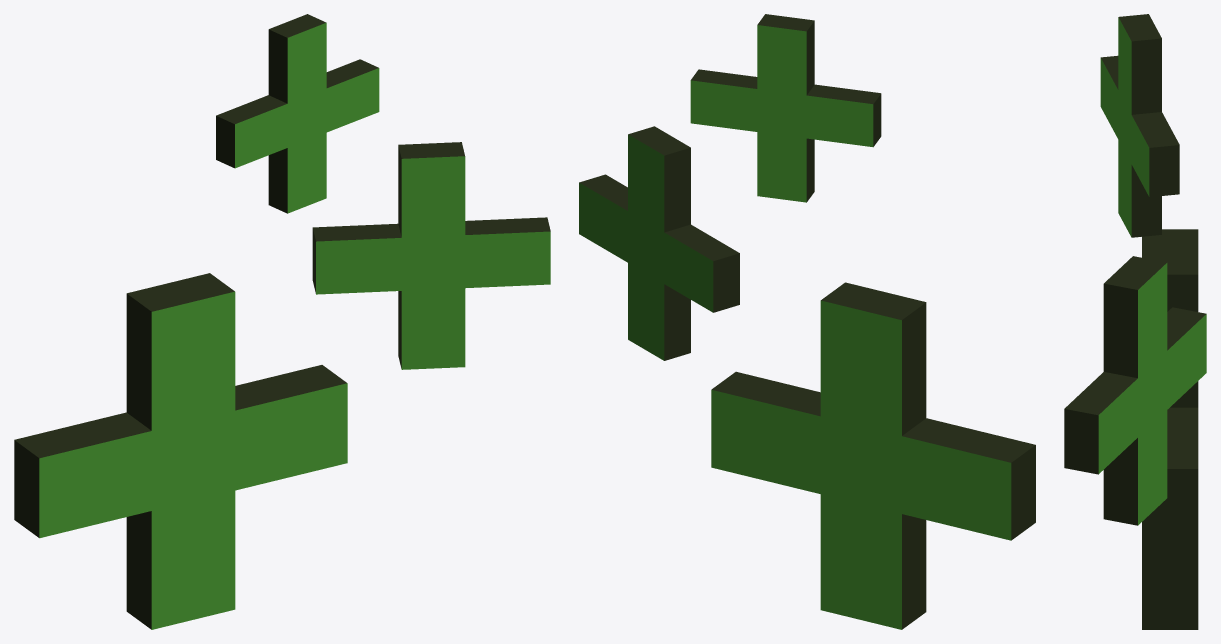
File: Health.glb
The picture shows the model from 3 angles, left to right: view 1: azimuth 30°, elevation 25°; view 2: azimuth 150°, elevation 25°; view 3: azimuth 270°, elevation 25°; orthographic projection. The views are drawn at different scales.
Parts seen in each view (by area): view 1: Cube.004; view 2: Cube.004; view 3: Cube.004.
Boxes of the visible parts, x1,y1,x2,y2 form: Cube.004: (14, 14, 550, 629); Cube.004: (579, 14, 1035, 629); Cube.004: (1064, 14, 1206, 629).
Bounding box in the file's own units: 0.3682 × 0.41 × 0.0832.
Materials: 1 (1 with a texture image).
